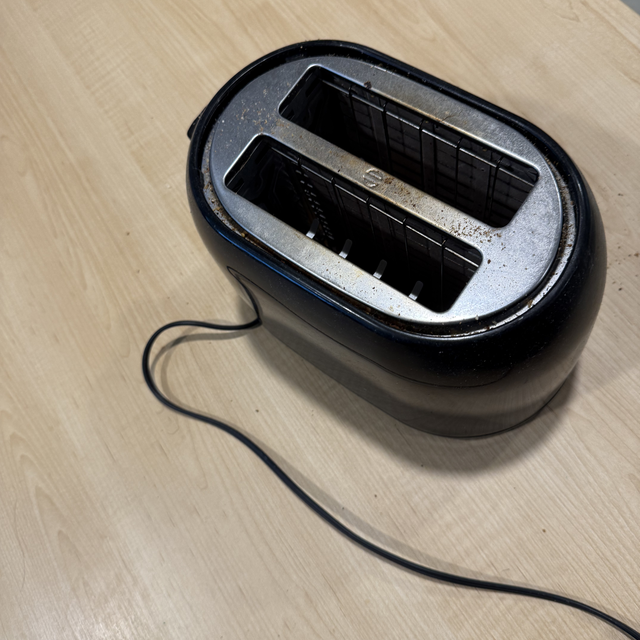Toaster: (187, 36, 607, 451)
